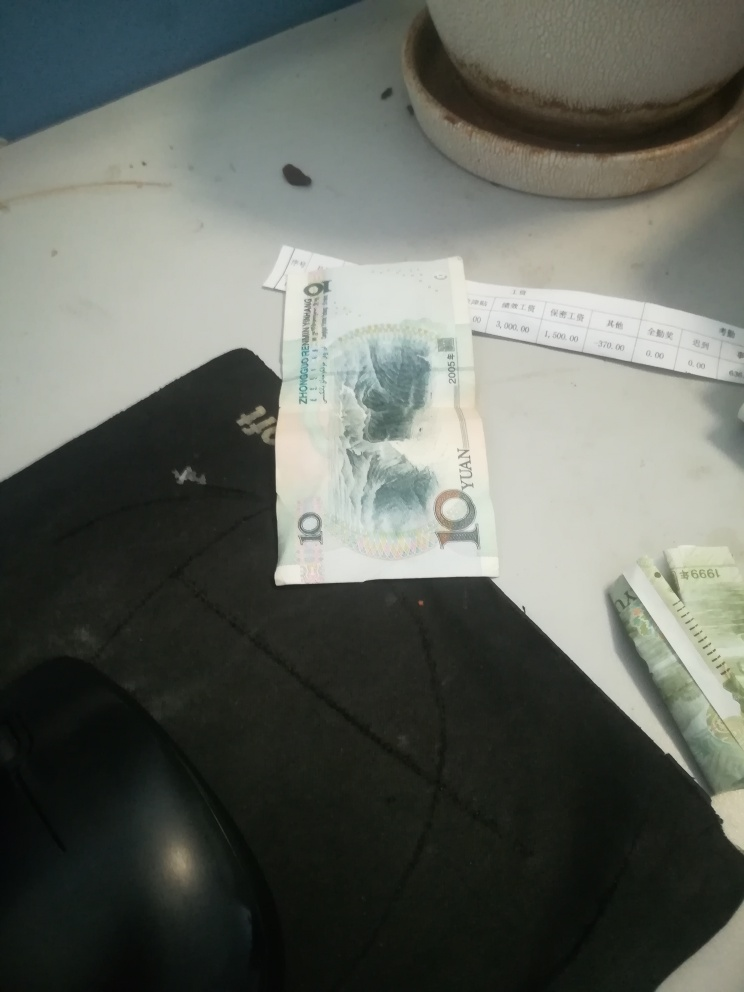rmb: (273, 261, 502, 592)
